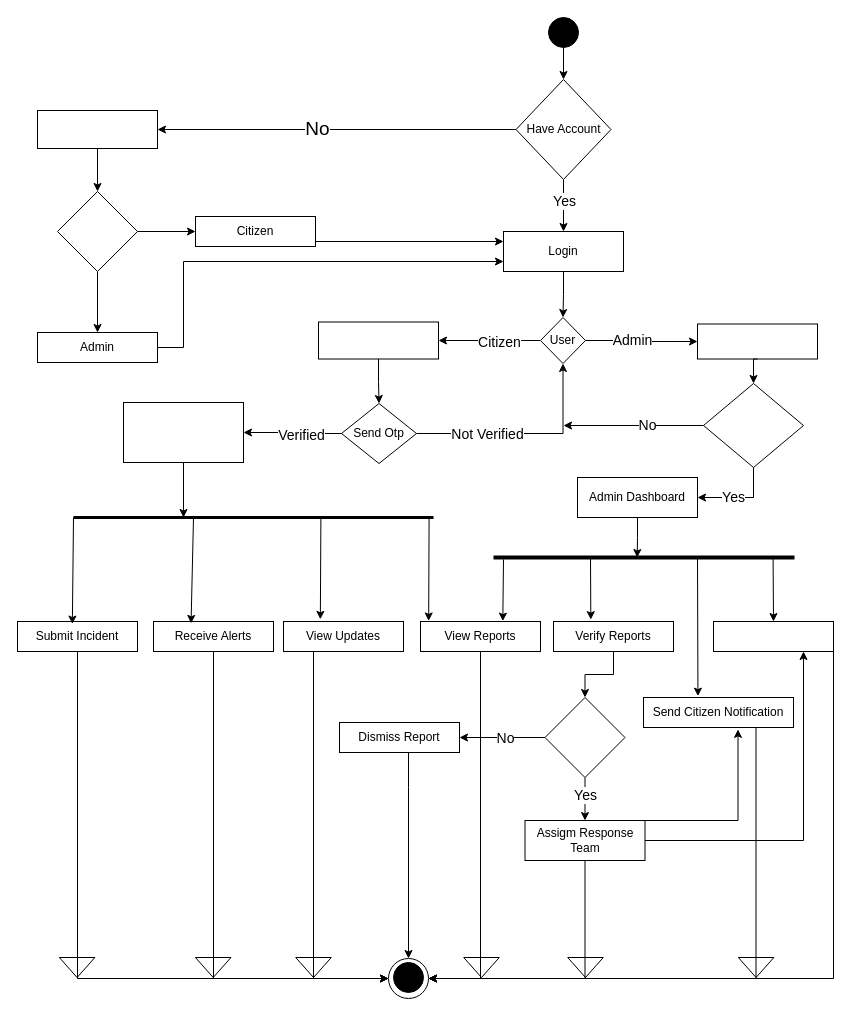
Some shapes in this 859 by 1016 pixel diagram are drawn without their labels. The shapes that lost their labels are listed below. From the top down, each one's centre as x and y in pixels, then its label:
At point (97, 129): "Register".
At point (97, 231): "Create Account".
At point (378, 340): "Enter Phone Number".
At point (757, 341): "Enter Credentials".
At point (183, 432): "Citizen Dashboard".
At point (753, 425): "Match Credentials?".
At point (773, 636): "Update Status".
At point (584, 737): "Report Valid ?".
